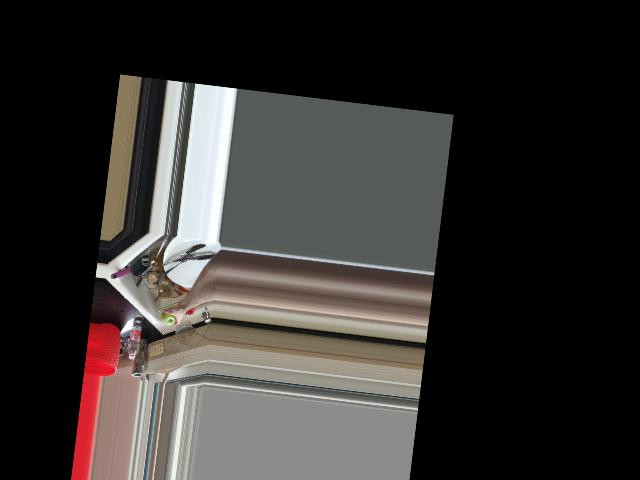apple: (161, 308, 177, 327)
